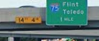1: (17, 16, 21, 23)
4: (30, 16, 35, 24), (19, 16, 24, 23)
overheadsign: (15, 15, 41, 24)
